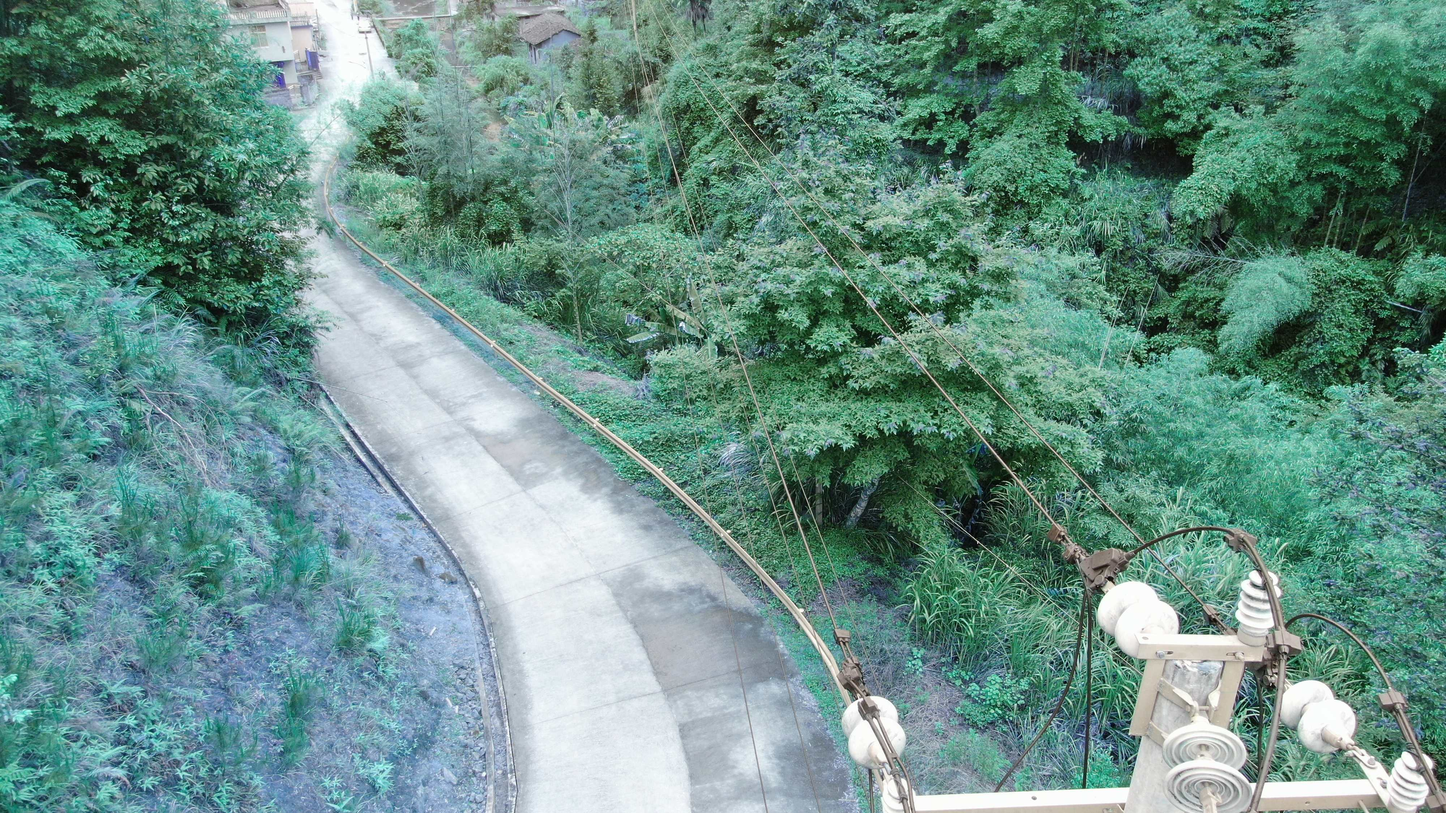severe_soiling_no_discharge_whole: (1159, 717, 1256, 810), (1279, 677, 1358, 758), (1096, 581, 1179, 657), (841, 694, 904, 771), (1233, 568, 1280, 648), (1384, 748, 1436, 811)
